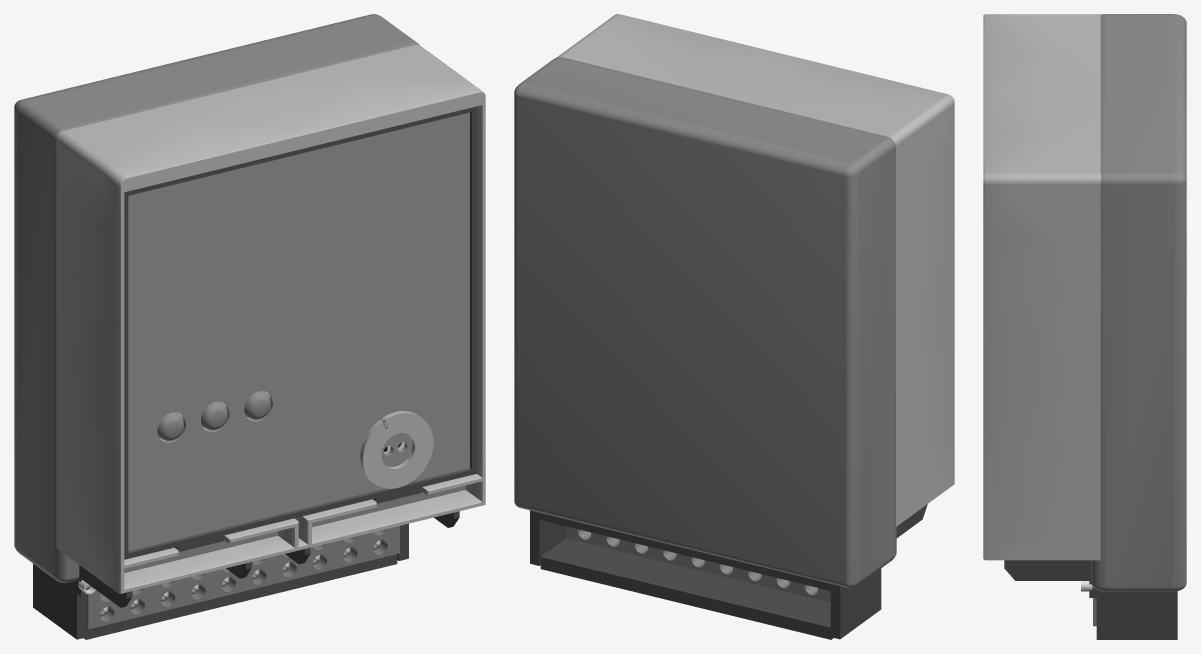
The model's file is Счетчик (4).fbx.
The picture shows the model from 3 angles, left to right: view 1: azimuth 30°, elevation 25°; view 2: azimuth 150°, elevation 25°; view 3: azimuth 270°, elevation 25°; orthographic projection. The views are drawn at different scales.
Parts seen in each view (by area): view 1: steklo, korpus_01, korpus_0, Shape5, Shape21, krug_, Box10, korpus_Box, Box01, korpus_Bo0; view 2: korpus_0, korpus_01, Box10, korpus_Box, Shape21; view 3: korpus_01, korpus_0, korpus_Box, korpus_Bo0.
Part boxes in pixels (bbox=[...]): steklo: bbox=[128, 112, 469, 551]; korpus_01: bbox=[56, 44, 485, 593]; korpus_0: bbox=[14, 14, 419, 582]; Shape5: bbox=[124, 106, 476, 559]; Shape21: bbox=[86, 526, 399, 629]; krug_: bbox=[360, 411, 433, 488]; Box10: bbox=[84, 554, 397, 639]; korpus_Box: bbox=[33, 523, 408, 639]; Box01: bbox=[124, 485, 465, 572]; korpus_Bo0: bbox=[79, 511, 459, 607]; korpus_0: bbox=[514, 57, 896, 588]; korpus_01: bbox=[557, 14, 954, 526]; Box10: bbox=[540, 538, 833, 639]; korpus_Box: bbox=[530, 510, 881, 639]; Shape21: bbox=[566, 526, 830, 602]; korpus_01: bbox=[983, 14, 1101, 560]; korpus_0: bbox=[1091, 14, 1186, 591]; korpus_Box: bbox=[1089, 581, 1177, 639]; korpus_Bo0: bbox=[1004, 560, 1091, 580].
Bounding box in the file's own units: 519 × 694 × 270.
Materials: 12 (3 with a texture image).
